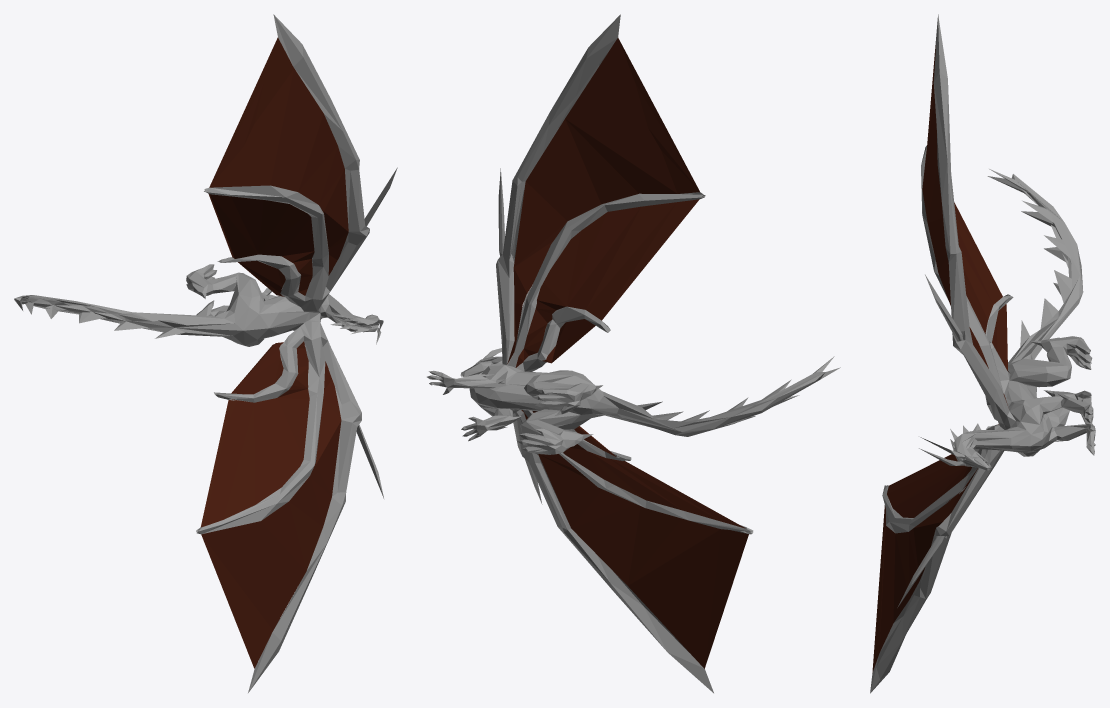
File: Dragon_2.5_For_Animations_000239.obj
3 views of the same model, side by side, from view 1: azimuth 30°, elevation 25°; view 2: azimuth 150°, elevation 25°; view 3: azimuth 270°, elevation 25° (orthographic). The views are drawn at different scales.
Parts seen in each view (by area): view 1: Cube_Cube.004; view 2: Cube_Cube.004; view 3: Cube_Cube.004.
Part boxes in pixels (box(x1,y1,x2,y2)): Cube_Cube.004: box(14, 14, 397, 692); Cube_Cube.004: box(427, 14, 840, 693); Cube_Cube.004: box(870, 14, 1095, 693).
Size of the model in its own units: 86.13 by 149 by 43.03.
